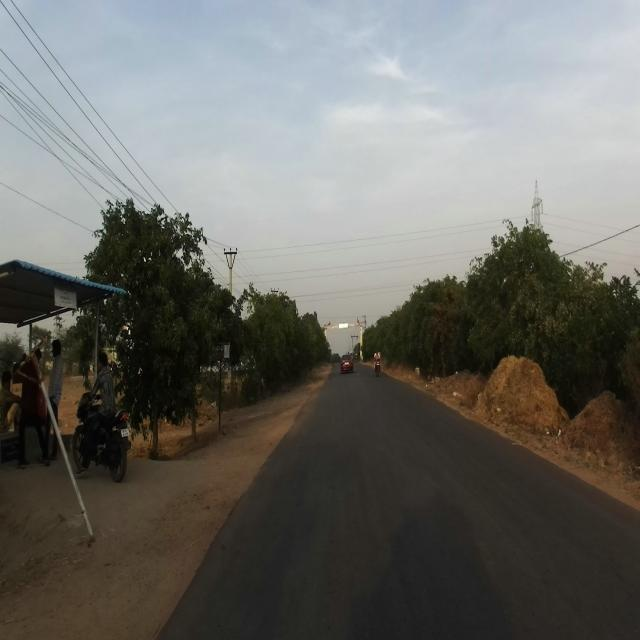Car: (339, 352, 353, 373)
motorcycle_bajaj: (72, 391, 131, 481)
